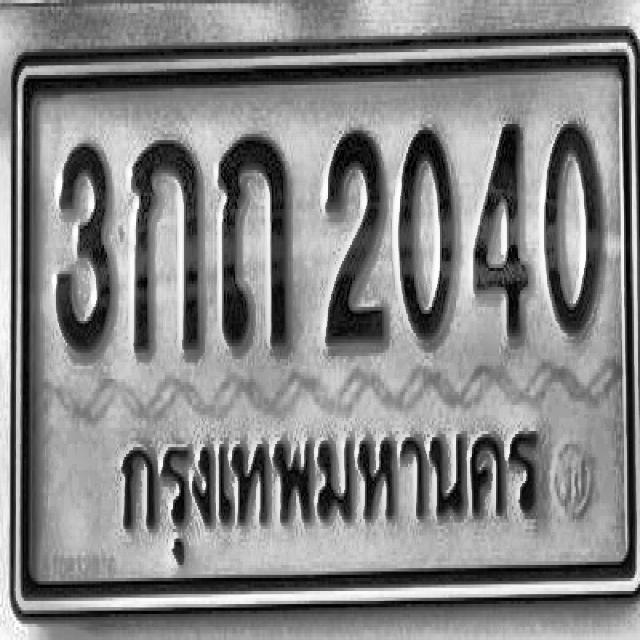license-plate: (9, 24, 640, 618)
